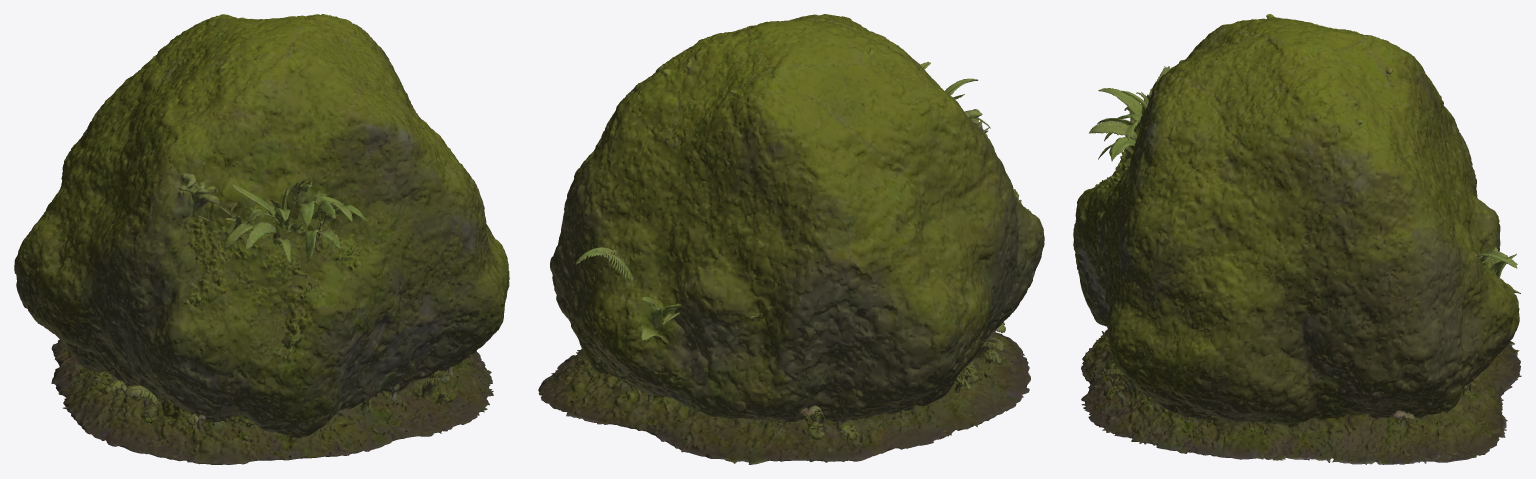
File: Meshy_AI_moss_rock_a_0823030614_image-to-3d-texture.glb
3 views of the same model, side by side, from view 1: azimuth 30°, elevation 25°; view 2: azimuth 150°, elevation 25°; view 3: azimuth 270°, elevation 25° (orthographic).
Parts seen in each view (by area): view 1: mesh_node; view 2: mesh_node; view 3: mesh_node.
Part boxes in pixels (x1=…): mesh_node: x1=14, y1=14, x2=509, y2=464; mesh_node: x1=538, y1=14, x2=1044, y2=464; mesh_node: x1=1073, y1=14, x2=1521, y2=464.
Bounding box in the file's own units: 1.9 × 1.57 × 1.85.
1 material, 1 textured.
